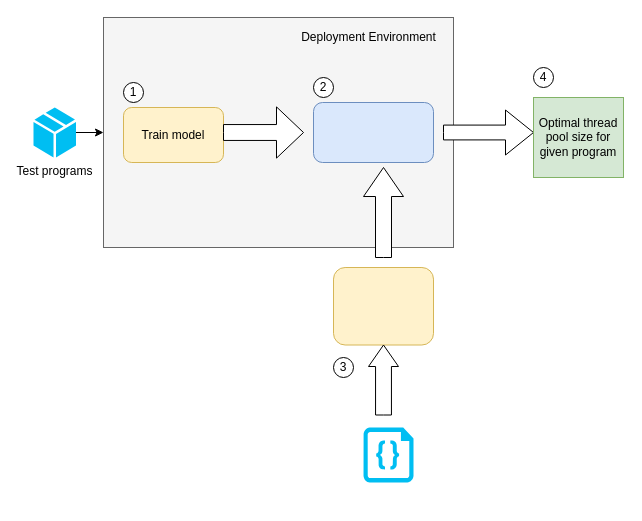
Some shapes in this 642 by 521 pixel diagram are drawn without their labels. The centre of each missing label's shape, as x and y in pixels:
"Ballerina source file" belongs at (388,454).
"Extract features" belongs at (383,305).
"Trained model" belongs at (373,132).
